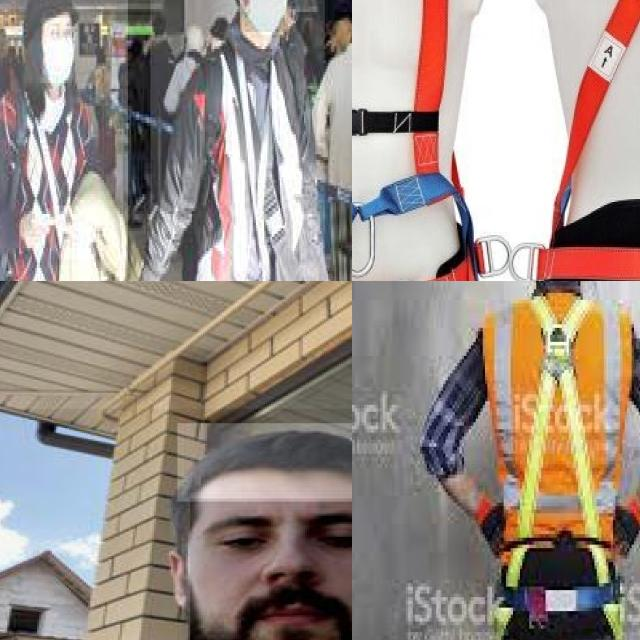Harness: (352, 0, 482, 281), (534, 0, 640, 281), (520, 297, 600, 538)
No_Ear-Protection: (151, 541, 211, 605)
No_Glasses: (193, 491, 352, 565)
face_mask: (42, 18, 74, 86), (244, 0, 286, 34)
face_nomask: (190, 498, 352, 640)
hand_noglove: (59, 205, 98, 262), (19, 206, 53, 260)
head_nohelmet: (177, 423, 352, 501), (32, 0, 85, 20)
person: (0, 408, 352, 640), (150, 0, 326, 281), (0, 0, 129, 281)
